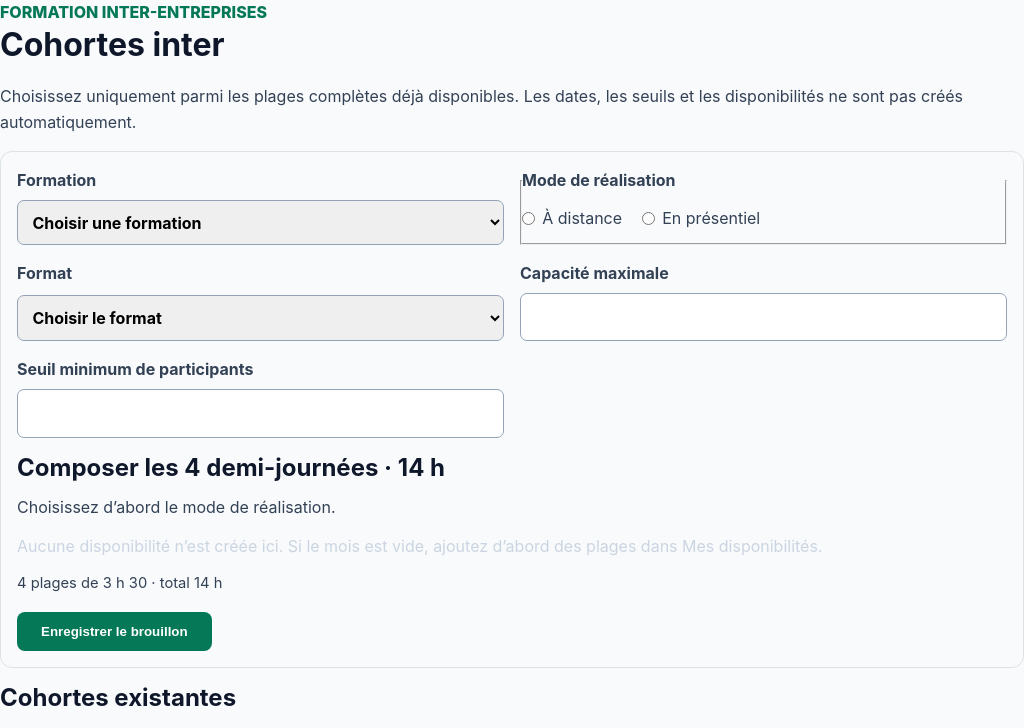
Test: refuse un seuil créativité hors bornes ou non entier (1)
This screenshot has width=1024, height=728.
Select "Créativité" in the dropdown labelled "Formation" at {"x": 260, "y": 223}, box x1=17 y1=200 x2=504 y2=245
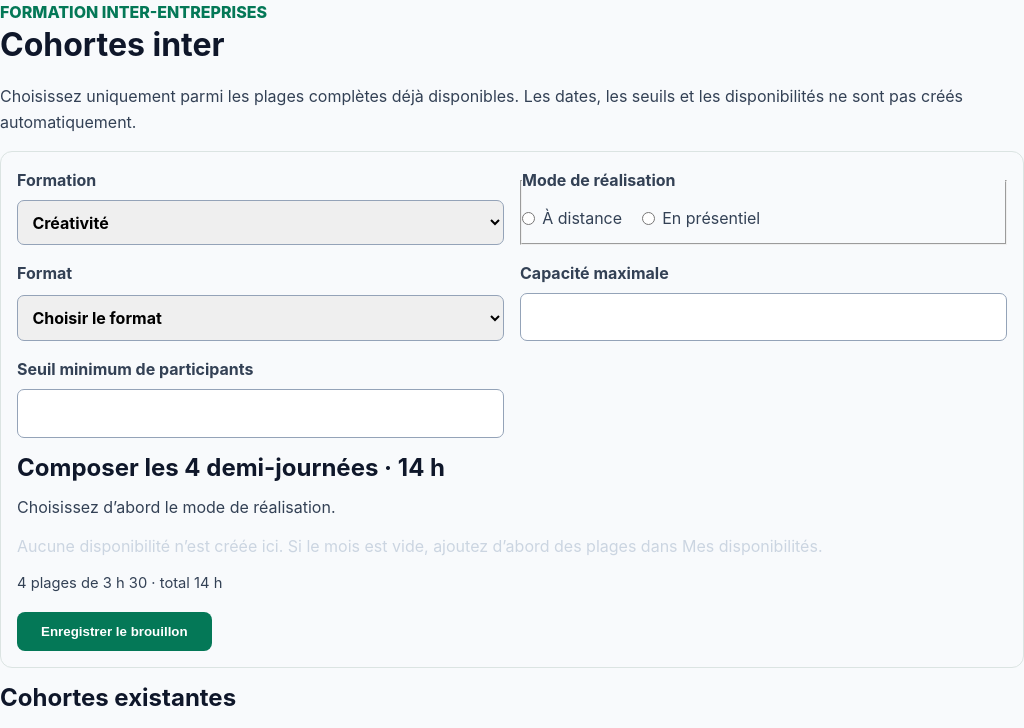
Click the radio button labelled "À distance".
click(528, 218)  # box x1=522 y1=212 x2=535 y2=225
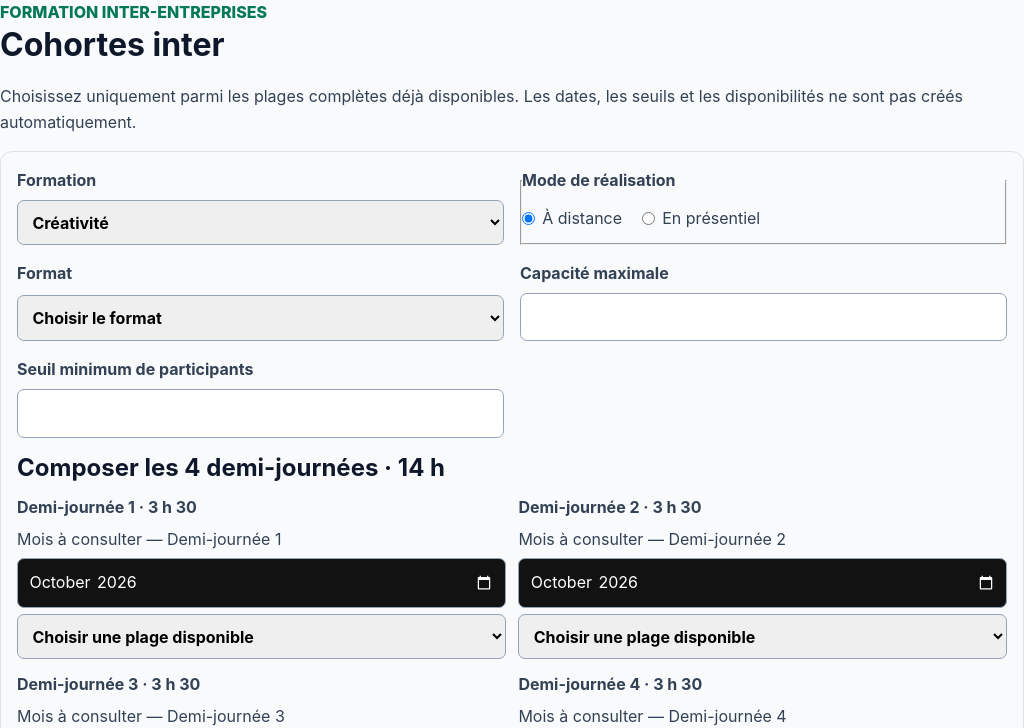
Type "1" into the number field labelled "Seuil minimum de participants".
click(260, 414); type("1")  # box x1=17 y1=389 x2=504 y2=438
(page scrolled)
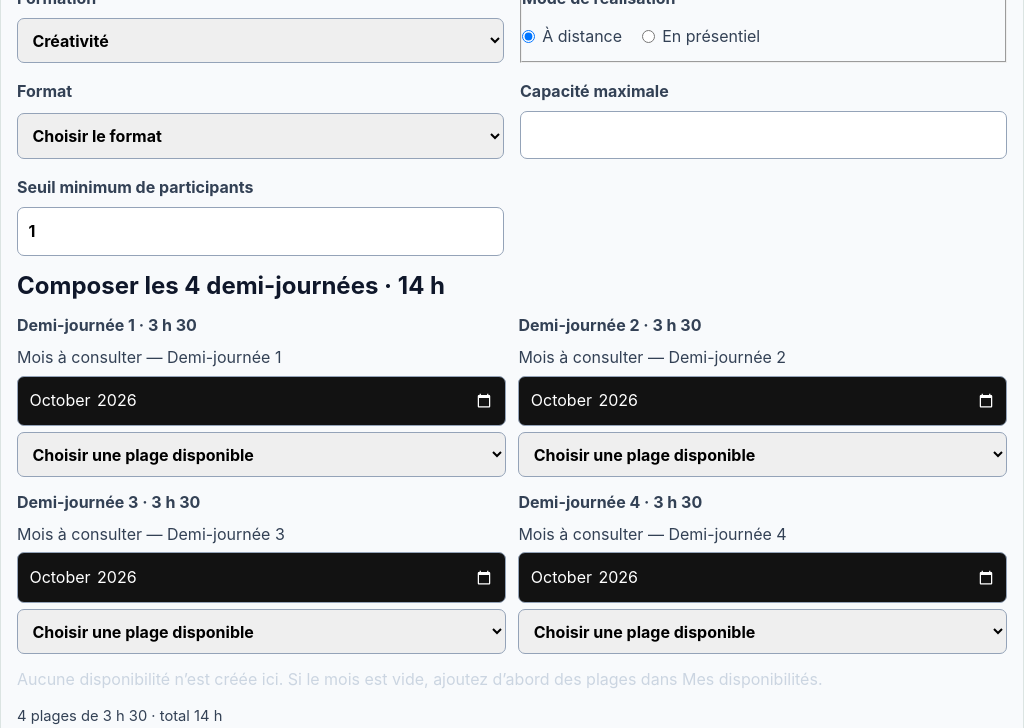
Submit the form named "Enregistrer le brouillon"
(page scrolled)
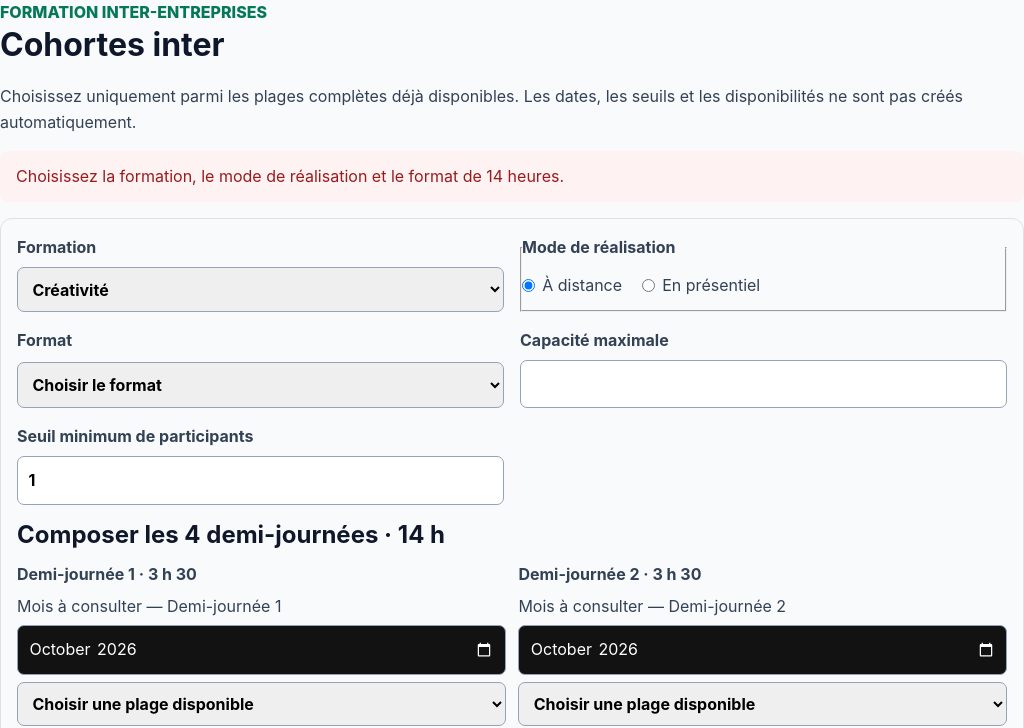
Result: the message "Choisissez la formation, le mode de réalisation et le format de 14 heures." is shown at x1=0 y1=151 x2=1023 y2=202
